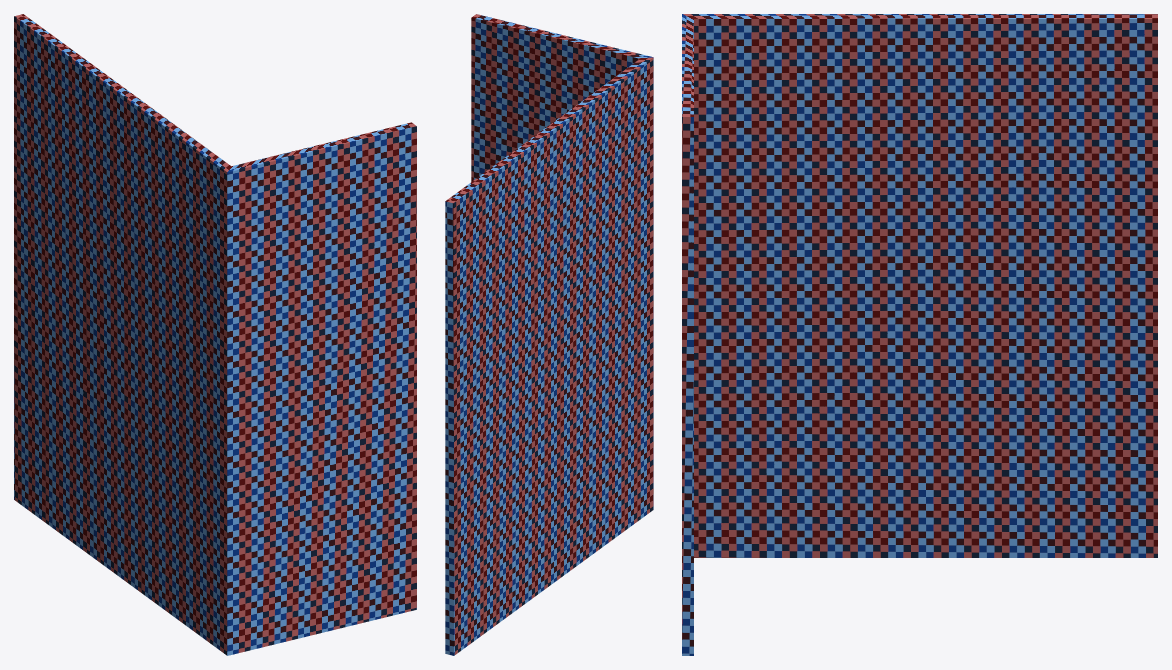
File: Wall_TurnWithHalf_Turn_01.fbx
The picture shows the model from 3 angles, left to right: view 1: azimuth 30°, elevation 25°; view 2: azimuth 150°, elevation 25°; view 3: azimuth 270°, elevation 25°; orthographic projection. The views are drawn at different scales.
Visible parts, largest first — view 1: wall_turnWithHalf_Turn_01; view 2: wall_turnWithHalf_Turn_01; view 3: wall_turnWithHalf_Turn_01.
Part boxes in pixels (left/top/right/bottom): wall_turnWithHalf_Turn_01: left=14, top=14, right=416, bottom=655; wall_turnWithHalf_Turn_01: left=445, top=14, right=653, bottom=655; wall_turnWithHalf_Turn_01: left=682, top=14, right=1157, bottom=655.
Bounding box in the file's own units: 205 × 500 × 400.
1 material, 1 textured.
